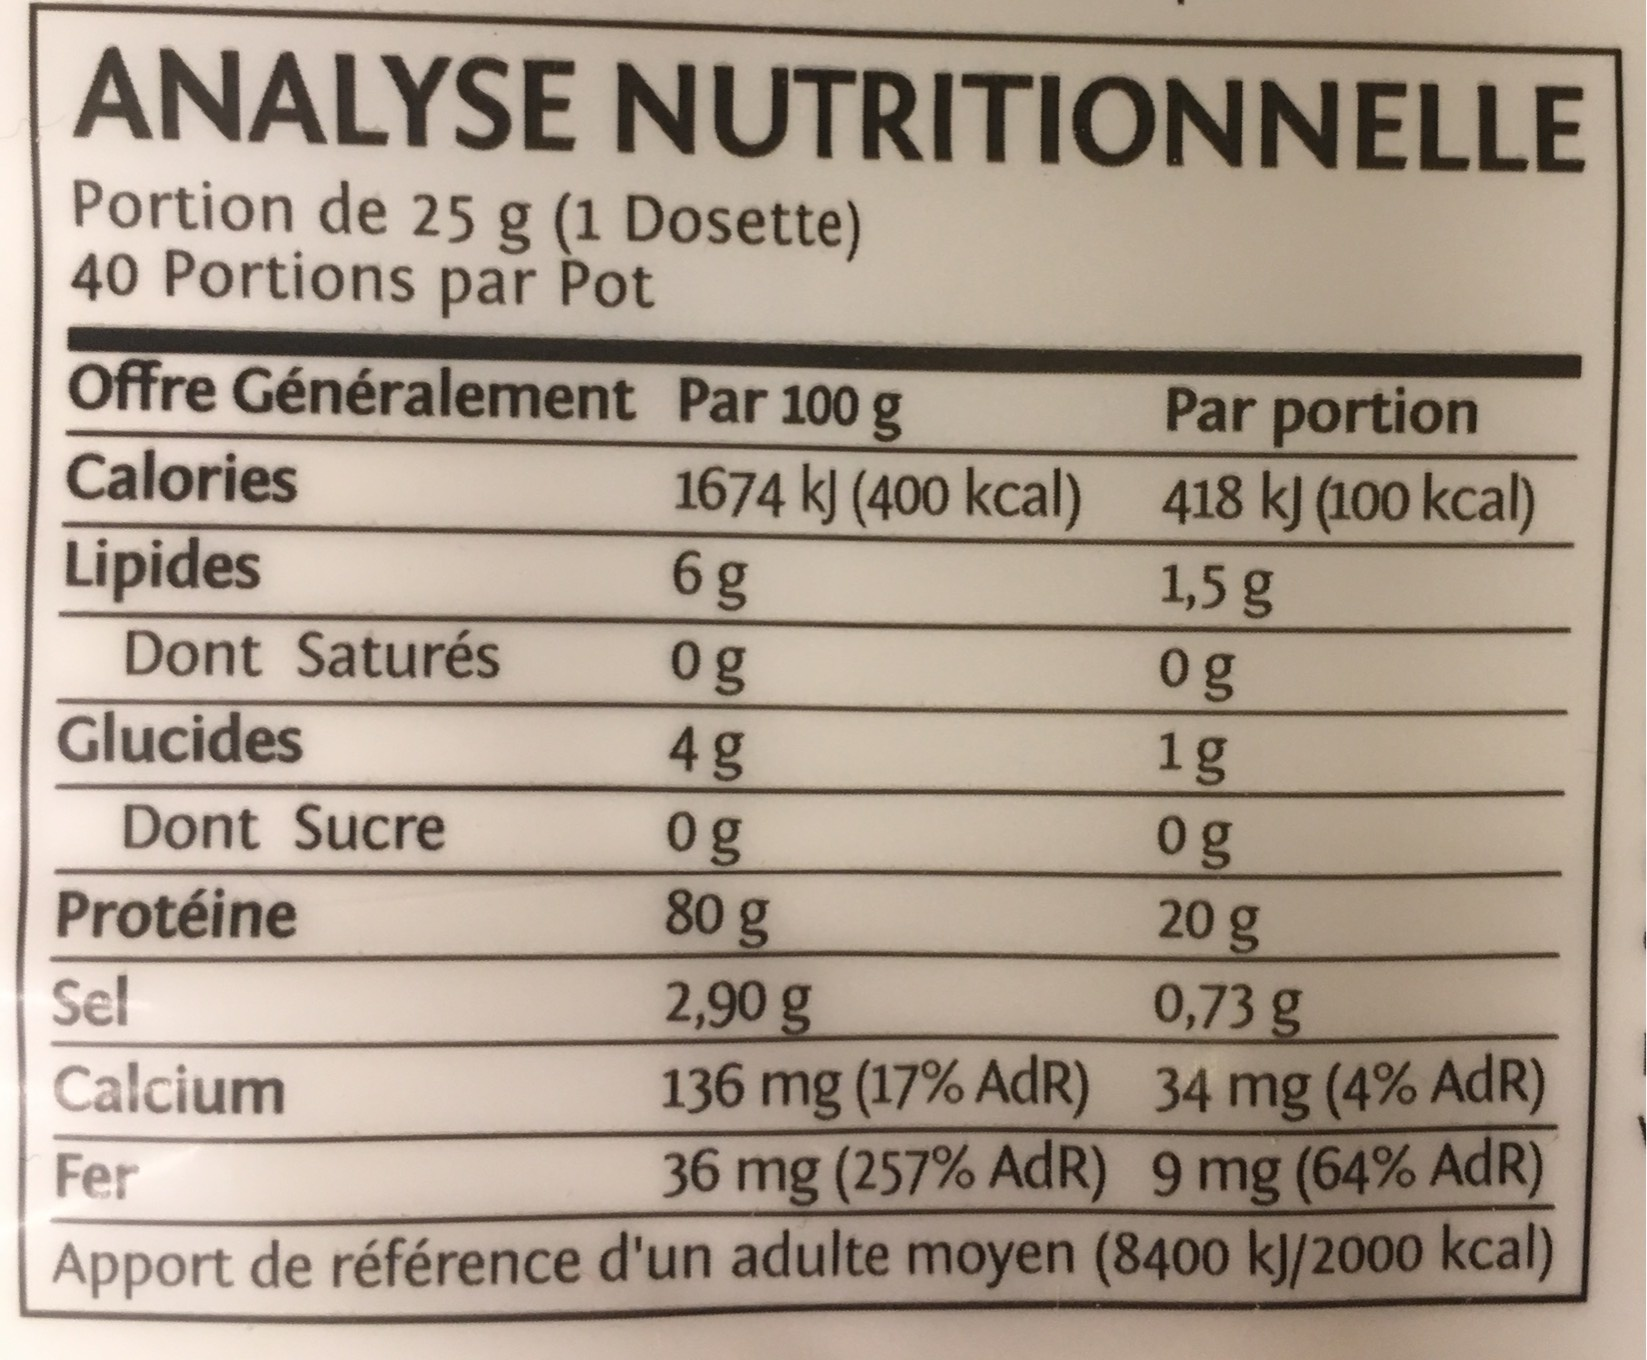column: (60, 339, 654, 1216), (670, 339, 1131, 1209), (1149, 343, 1577, 1216)
table: (31, 5, 1583, 1293)
